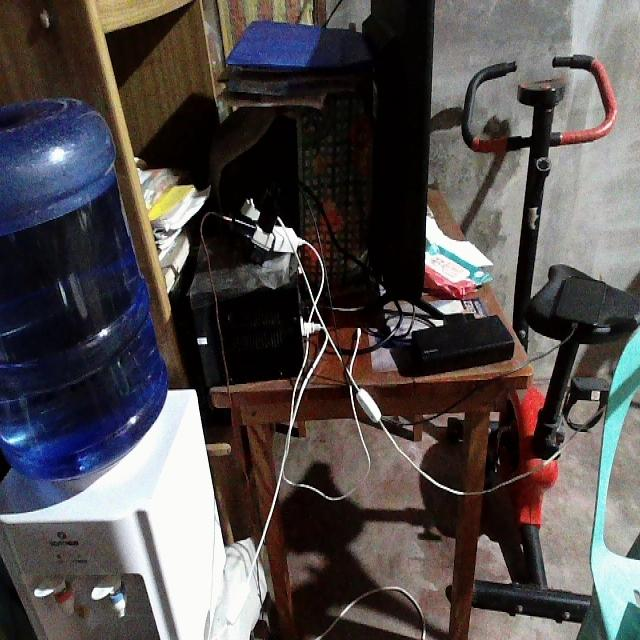-: (211, 165, 309, 263)
